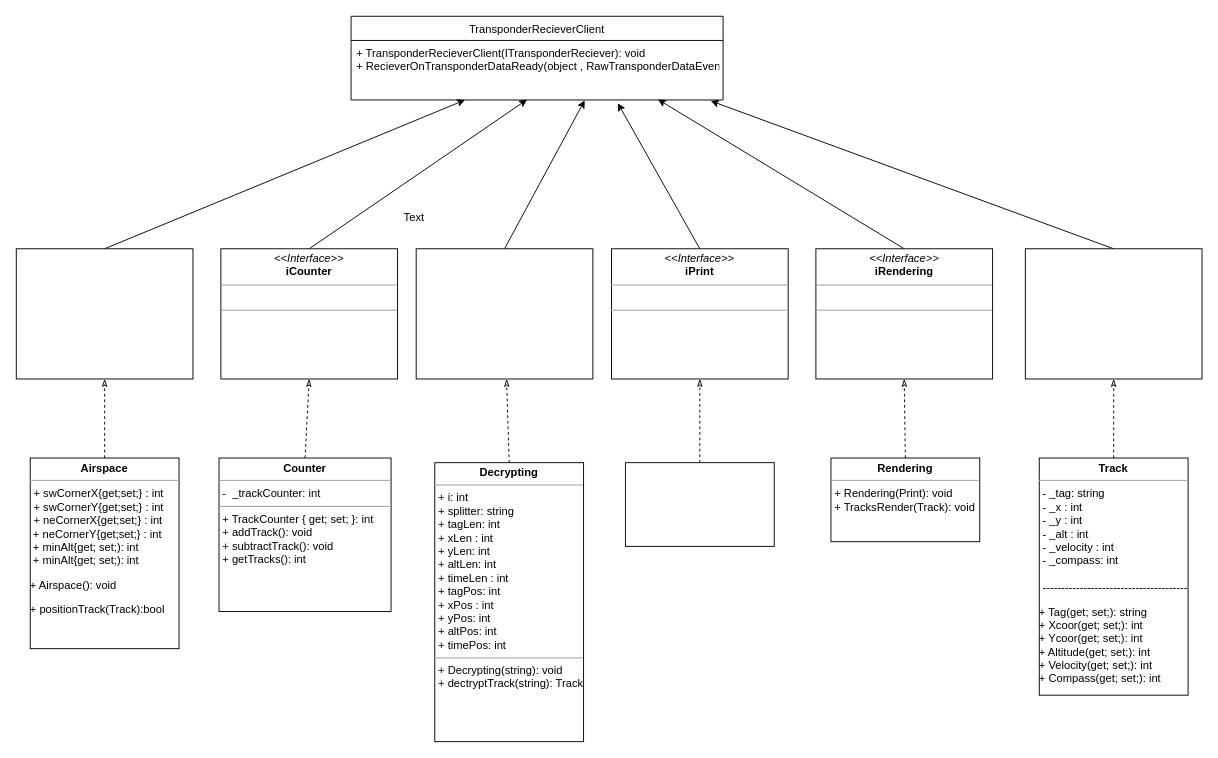
The diagram is 1218 pixels wide and 758 high, and some of its shapes have lost their labels. The centre of each missing label's shape, as x and y in pixels:
<<Interface>> IAirspace: (x=104, y=313)
<<Interface>> iDecrypting: (x=504, y=313)
<<Interface>> iTrack: (x=1113, y=313)
Print + print(string): void + Clear(): void: (x=699, y=504)
